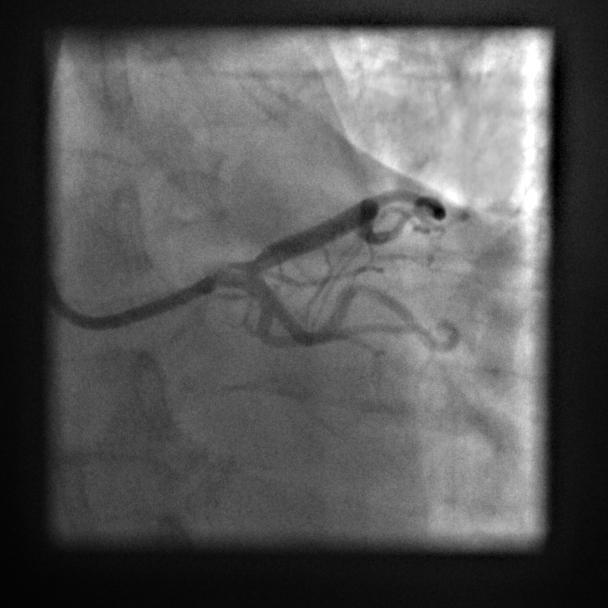Stenosis: (238, 248, 276, 276)
